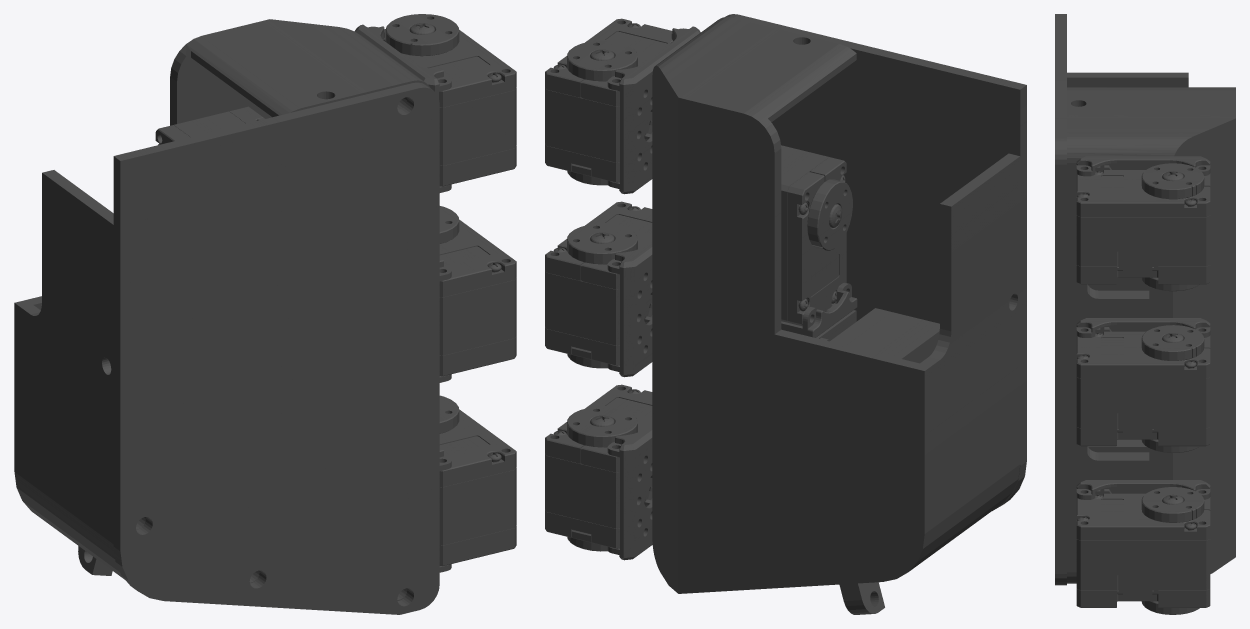
Rendered from palm_lower.dae.
The picture shows the model from 3 angles, left to right: view 1: azimuth 30°, elevation 25°; view 2: azimuth 150°, elevation 25°; view 3: azimuth 270°, elevation 25°; orthographic projection. The views are drawn at different scales.
Visible parts, largest first — view 1: node; view 2: node; view 3: node.
Part boxes in pixels (left/top/right/bottom): node: left=14, top=14, right=516, bottom=614; node: left=545, top=14, right=1026, bottom=614; node: left=1055, top=14, right=1235, bottom=614.
Bounding box in the file's own units: 0.103 × 0.1257 × 0.046.
Materials: 1 (1 with a texture image).
